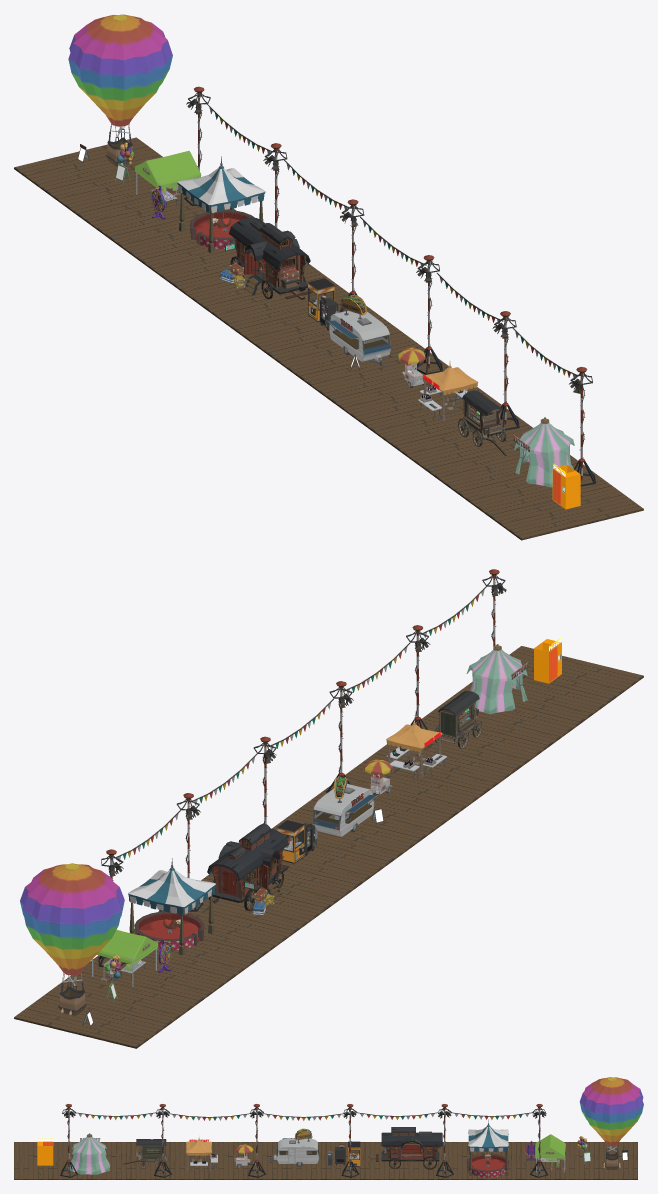
Rendered from CommercialStrip3_opt2k.glb.
3 renders of one model, top to bottom at view 1: azimuth 30°, elevation 25°; view 2: azimuth 150°, elevation 25°; view 3: azimuth 270°, elevation 25°, orthographic. The views are drawn at different scales.
Visible parts, largest first — view 1: Boardwalk, SM_Prop_Hot_Air_Balloon_01.002, SM_Veh_Wagon_01, Bull_Tent, SM_Prop_Tent_01, SM_Veh_Food_Trailer_02, SM_Prop_Tent_03, SM_Veh_Wagon_Shop_01, SM_Prop_Mechanical_Bull_Pit_01, SM_Prop_Market_Stall_05, Photo_booth_Cube.031; view 2: Boardwalk, SM_Prop_Hot_Air_Balloon_01.002, SM_Veh_Wagon_01, Bull_Tent, SM_Prop_Tent_01, SM_Veh_Food_Trailer_02, SM_Prop_Mechanical_Bull_Pit_01, SM_Prop_Tent_03, SM_Veh_Wagon_Shop_01, SM_Prop_Market_Stall_05, Photo_booth_Cube.031, Claw_Machine; view 3: Boardwalk, SM_Prop_Hot_Air_Balloon_01.002, SM_Veh_Wagon_01, SM_Prop_Tent_01, Bull_Tent, SM_Veh_Food_Trailer_02, SM_Prop_Tent_03, SM_Prop_Mechanical_Bull_Pit_01, SM_Veh_Wagon_Shop_01, SM_Prop_Market_Stall_05, Photo_booth_Cube.031, SM_Prop_Bunting_Pole_01 (+13 smaller).
Part boxes in pixels (left/top/right/bottom): Boardwalk: left=14, top=137, right=643, bottom=540; SM_Prop_Hot_Air_Balloon_01.002: left=68, top=14, right=172, bottom=166; SM_Veh_Wagon_01: left=224, top=217, right=312, bottom=299; Bull_Tent: left=177, top=156, right=265, bottom=253; SM_Prop_Tent_01: left=514, top=417, right=574, bottom=487; SM_Veh_Food_Trailer_02: left=326, top=310, right=390, bottom=369; SM_Prop_Tent_03: left=134, top=151, right=201, bottom=195; SM_Veh_Wagon_Shop_01: left=462, top=390, right=503, bottom=438; SM_Prop_Mechanical_Bull_Pit_01: left=189, top=210, right=254, bottom=244; SM_Prop_Market_Stall_05: left=422, top=361, right=478, bottom=420; Photo_booth_Cube.031: left=552, top=464, right=580, bottom=509; Boardwalk: left=14, top=646, right=643, bottom=1048; SM_Prop_Hot_Air_Balloon_01.002: left=20, top=863, right=124, bottom=1015; SM_Veh_Wagon_01: left=207, top=824, right=289, bottom=911; Bull_Tent: left=128, top=858, right=215, bottom=955; SM_Prop_Tent_01: left=466, top=644, right=527, bottom=714; SM_Veh_Food_Trailer_02: left=312, top=784, right=377, bottom=836; SM_Prop_Mechanical_Bull_Pit_01: left=134, top=911, right=204, bottom=945; SM_Prop_Tent_03: left=91, top=930, right=158, bottom=988; SM_Veh_Wagon_Shop_01: left=438, top=691, right=479, bottom=743; SM_Prop_Market_Stall_05: left=386, top=717, right=442, bottom=777; Photo_booth_Cube.031: left=534, top=639, right=561, bottom=683; Claw_Machine: left=277, top=820, right=304, bottom=864; Boardwalk: left=14, top=1142, right=637, bottom=1179; SM_Prop_Hot_Air_Balloon_01.002: left=579, top=1077, right=643, bottom=1169; SM_Veh_Wagon_01: left=368, top=1127, right=442, bottom=1169; SM_Prop_Tent_01: left=69, top=1133, right=110, bottom=1174; Bull_Tent: left=468, top=1119, right=508, bottom=1175; SM_Veh_Food_Trailer_02: left=266, top=1138, right=319, bottom=1163; SM_Prop_Tent_03: left=535, top=1134, right=565, bottom=1173; SM_Prop_Mechanical_Bull_Pit_01: left=466, top=1153, right=509, bottom=1177; SM_Veh_Wagon_Shop_01: left=135, top=1139, right=166, bottom=1161; SM_Prop_Market_Stall_05: left=186, top=1137, right=211, bottom=1171; Photo_booth_Cube.031: left=37, top=1141, right=53, bottom=1165; SM_Prop_Bunting_Pole_01: left=341, top=1104, right=359, bottom=1177.
Size of the model in its own units: 11.48 by 12.23 by 77.9.
Materials: 31 (19 with a texture image).
